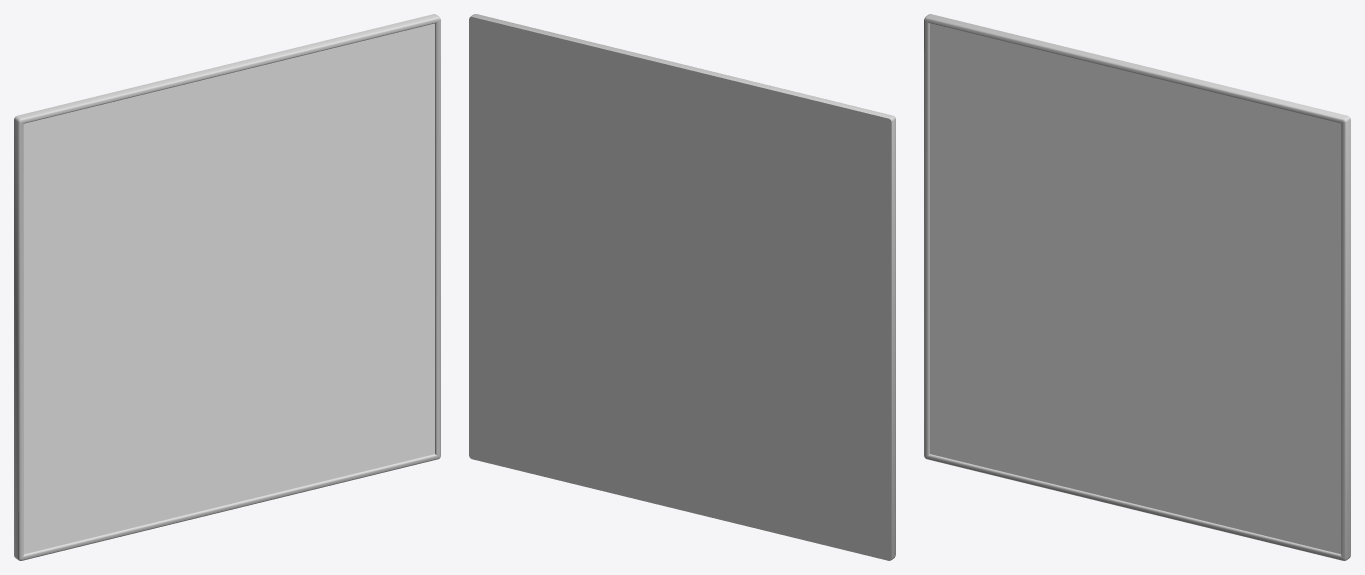
File: framed_sign_s.fbx
The picture shows the model from 3 angles, left to right: view 1: azimuth 30°, elevation 25°; view 2: azimuth 150°, elevation 25°; view 3: azimuth 330°, elevation 25°; orthographic projection.
Parts seen in each view (by area): view 1: SQUARE; view 2: SQUARE; view 3: SQUARE.
Boxes of the visible parts, bbox=[...] form: SQUARE: bbox=[14, 14, 440, 560]; SQUARE: bbox=[469, 14, 895, 560]; SQUARE: bbox=[924, 14, 1350, 560].
Size of the model in its own units: 200 by 200 by 4.
Materials: 2 (1 with a texture image).
